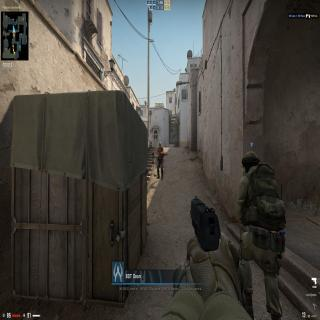CT-Head: (242, 152, 259, 172)
T-Head: (158, 142, 162, 148), (178, 143, 178, 146)
